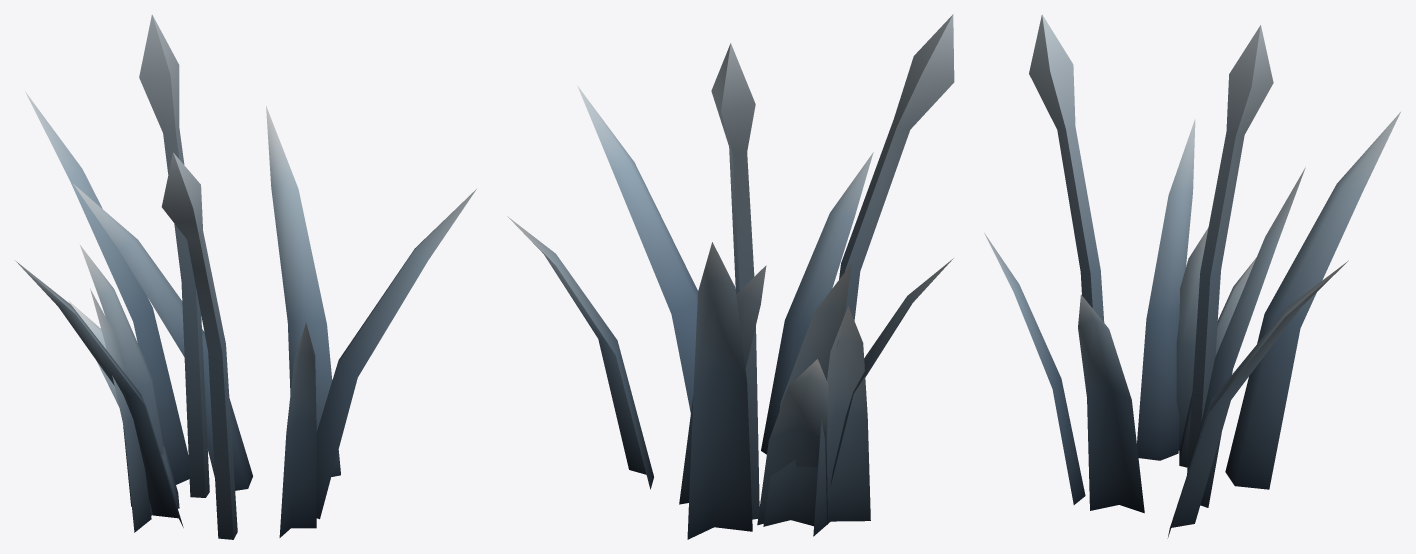
Rendered from grass_frozen_b.glb.
3 views of the same model, side by side, from view 1: azimuth 30°, elevation 25°; view 2: azimuth 150°, elevation 25°; view 3: azimuth 270°, elevation 25° (orthographic). The views are drawn at different scales.
Visible parts, largest first — view 1: grass_frozen_b; view 2: grass_frozen_b; view 3: grass_frozen_b.
Boxes of the visible parts, x1=… form: grass_frozen_b: x1=15, y1=14, x2=476, y2=539; grass_frozen_b: x1=507, y1=14, x2=954, y2=539; grass_frozen_b: x1=984, y1=14, x2=1400, y2=538.
Bounding box in the file's own units: 0.5389 × 0.5874 × 0.4955.
